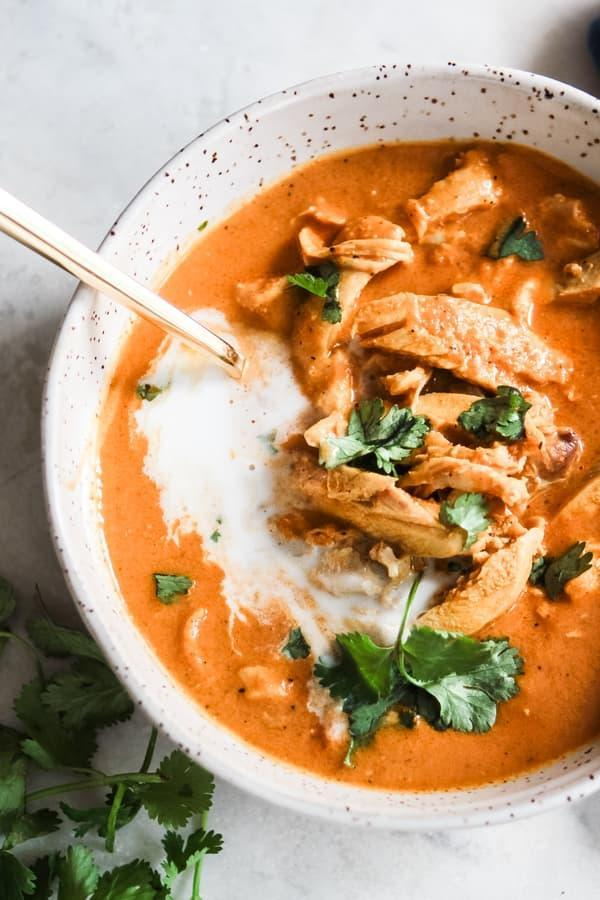chicken: (182, 196, 572, 745)
